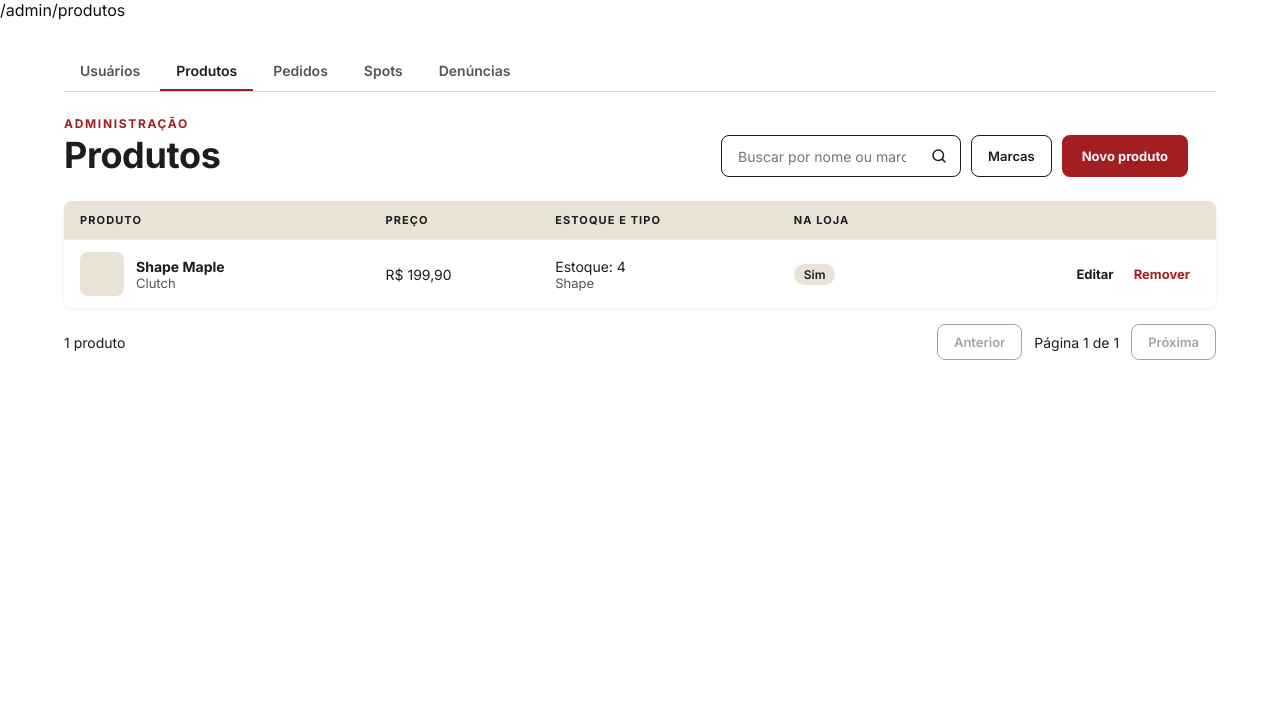
Painel: remover produto › pede confirmação, remove e recarrega a lista
Click the button "Remover": {"x": 1162, "y": 274} x1=1124 y1=260 x2=1200 y2=288
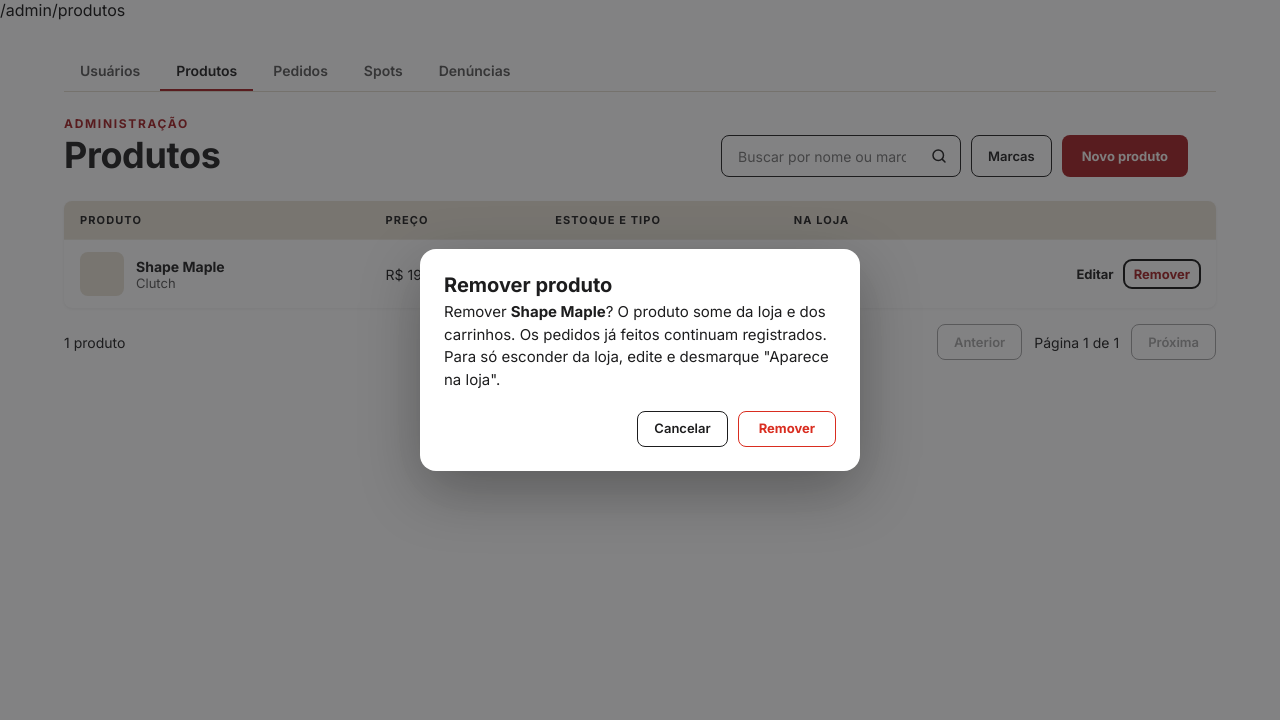
Result: the text "Shape Maple" is shown at x1=511 y1=302 x2=606 y2=321
Click the button "Remover": {"x": 787, "y": 429} x1=738 y1=411 x2=836 y2=447
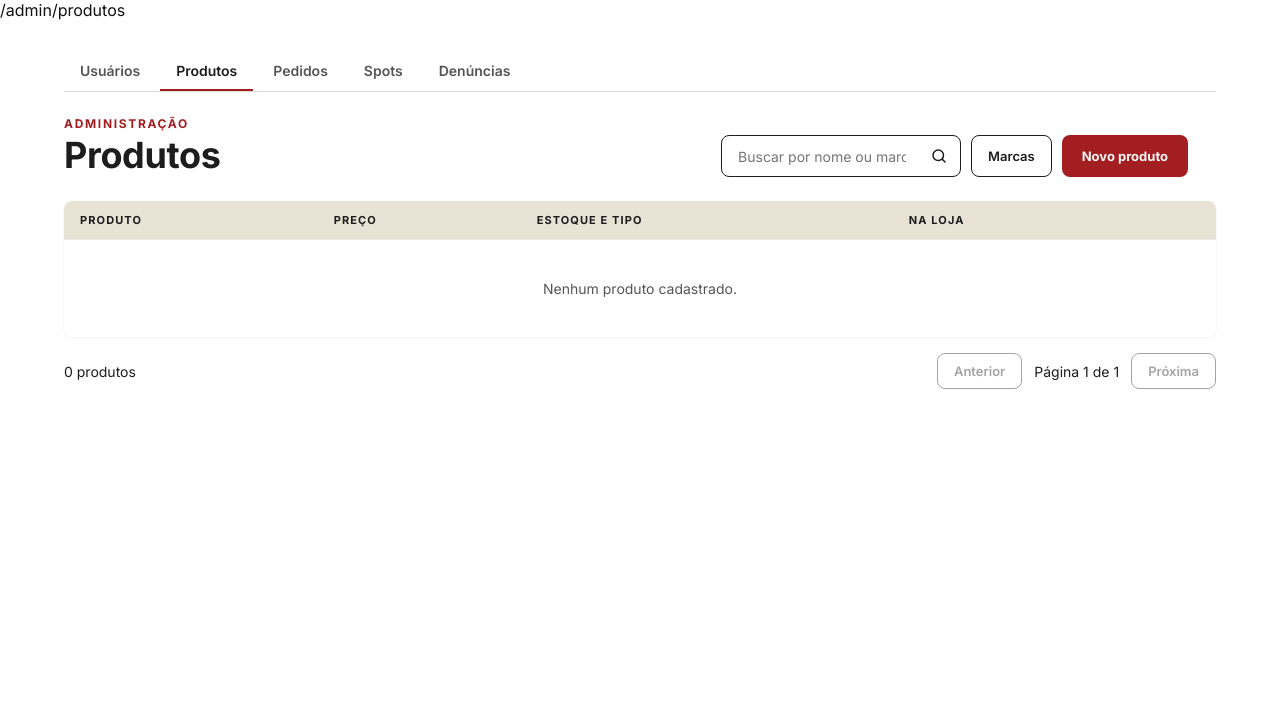
Result: the text "Nenhum produto cadastrado." is shown at x1=64 y1=240 x2=1216 y2=337
